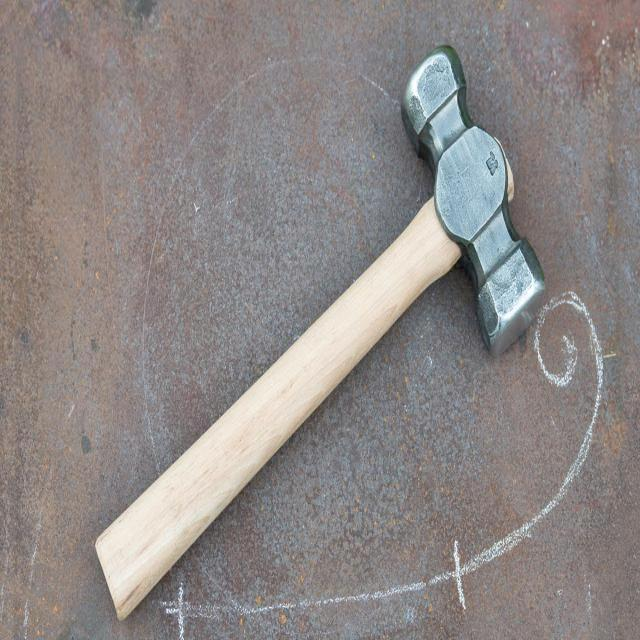hammer: (85, 31, 551, 630)
